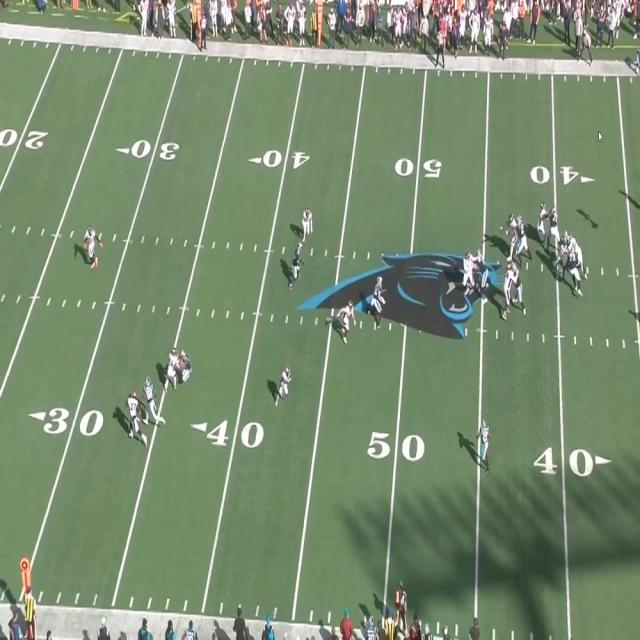db: (126, 390, 141, 438), (277, 365, 290, 402), (165, 347, 177, 387), (85, 226, 96, 267), (302, 208, 311, 244)
lb: (342, 305, 354, 343)
skill: (372, 281, 386, 328), (144, 380, 158, 424), (477, 418, 489, 466), (179, 348, 190, 386), (294, 241, 302, 284)
